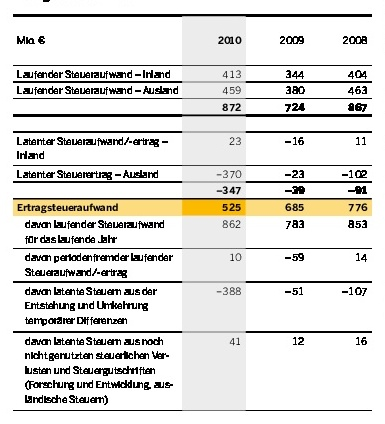table: (0, 0, 385, 424)
